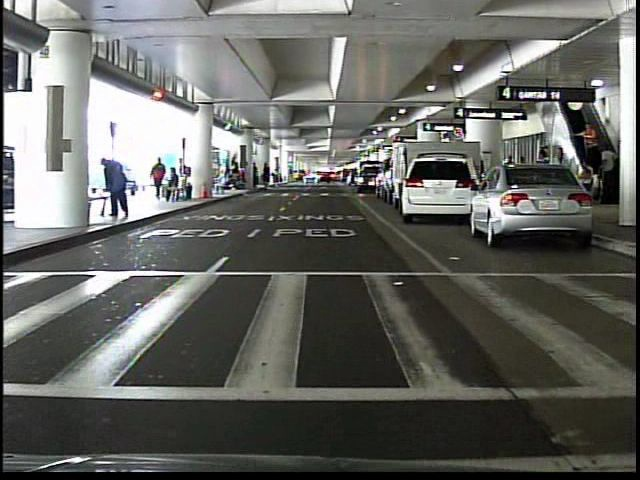person: (99, 152, 135, 222), (576, 119, 602, 169), (599, 141, 619, 194), (271, 162, 284, 189)
